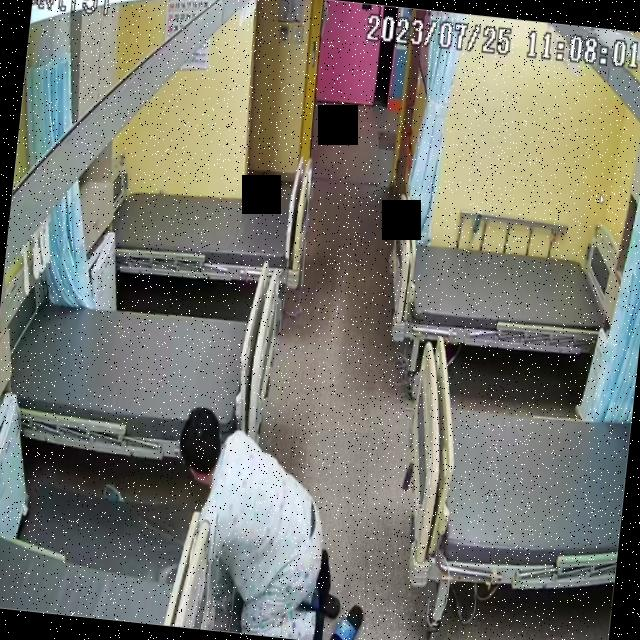bed: (393, 334, 638, 602), (1, 286, 278, 465), (380, 220, 626, 363), (110, 171, 308, 288)
fall: (159, 398, 358, 640)
patient: (161, 397, 357, 640)
